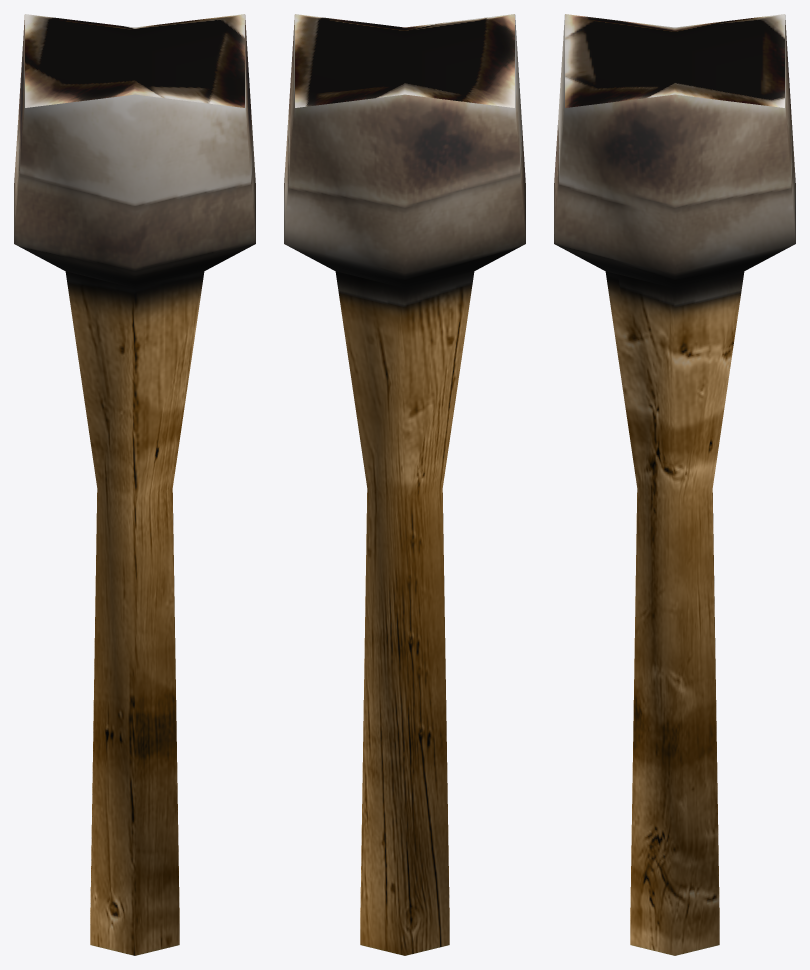
File: torch01.FBX
The picture shows the model from 3 angles, left to right: view 1: azimuth 30°, elevation 25°; view 2: azimuth 150°, elevation 25°; view 3: azimuth 270°, elevation 25°; orthographic projection.
Visible parts, largest first — view 1: torch01; view 2: torch01; view 3: torch01.
Part boxes in pixels (<box>): torch01: <box>14,14,255,955</box>; torch01: <box>284,14,525,955</box>; torch01: <box>554,14,795,955</box>.
Bounding box in the file's own units: 0.2224 × 0.1926 × 0.7848.
